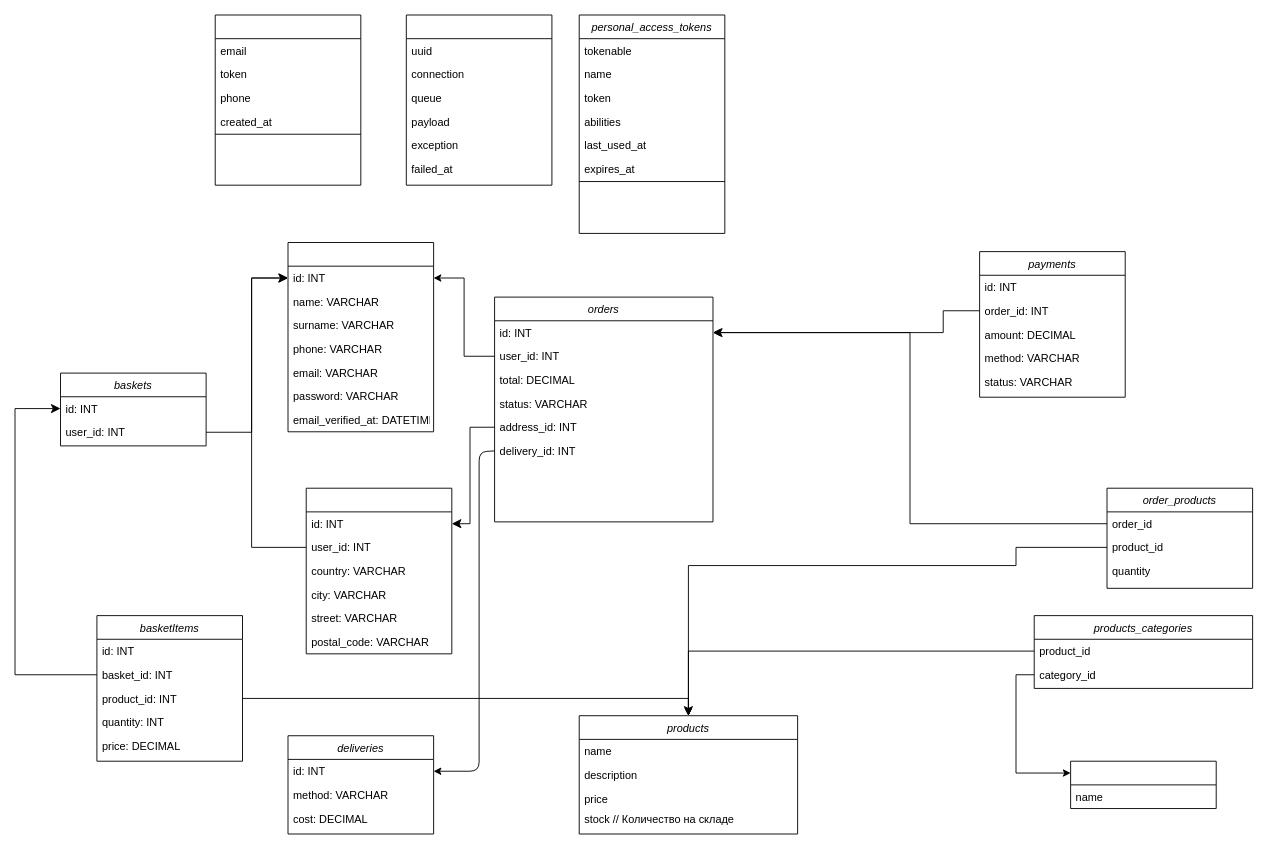
Some shapes in this 1268 by 849 pixel diagram are drawn without their labels. Here are the shapes that lost their labels. From the top down, the box of each, then its label:
(214, 14, 361, 185): password_reset_tokens
(405, 14, 552, 185): failed_jobs
(287, 242, 434, 432): users
(305, 487, 452, 654): addresses
(1070, 760, 1216, 809): categories
